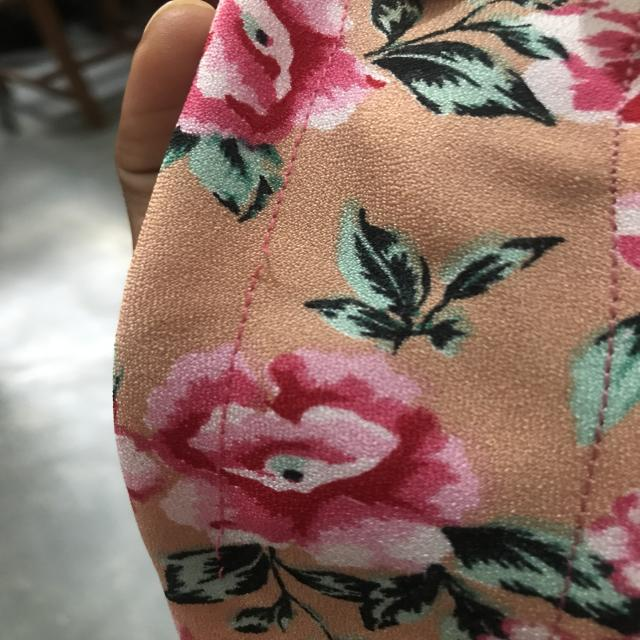broken: (251, 218, 278, 300)
good: (592, 364, 614, 454)
